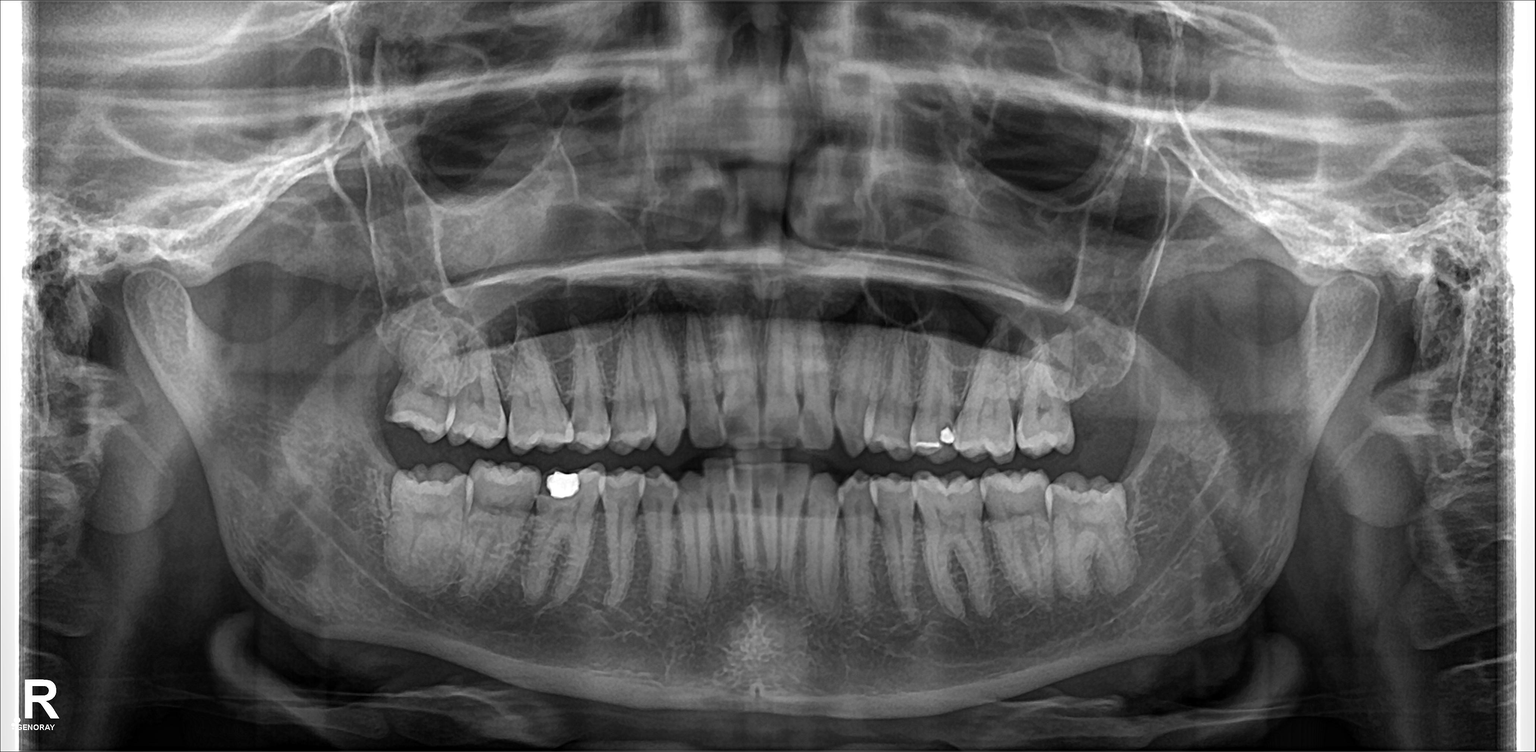Impacted Third Molar: (1071, 352, 1128, 456)
